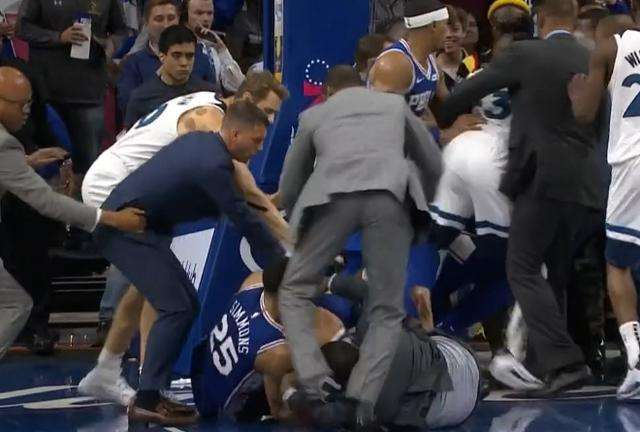10+: (5, 1, 635, 427)
down: (313, 268, 501, 425), (172, 254, 316, 412)
